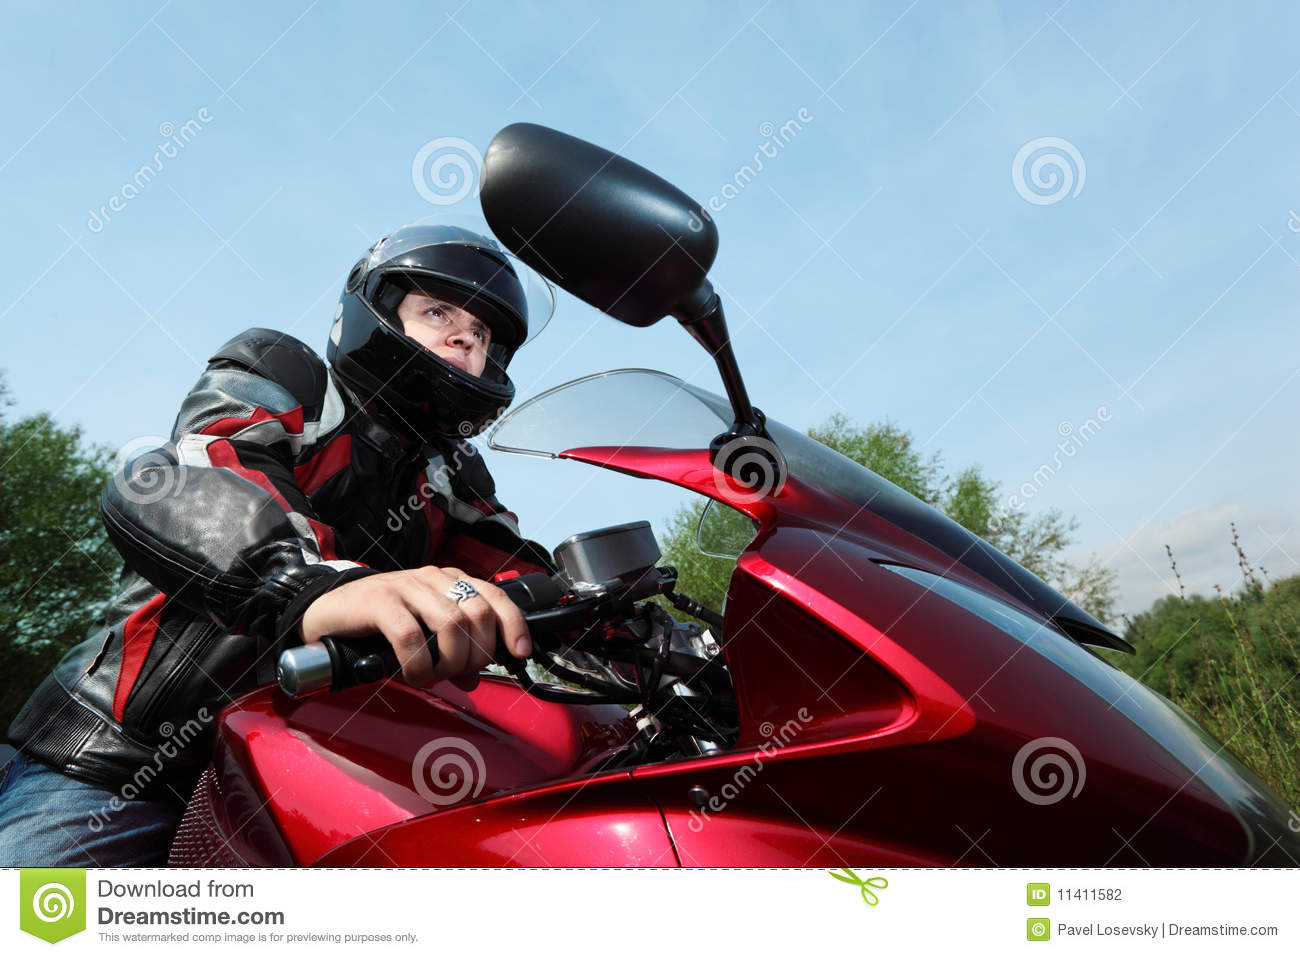helmet: (346, 216, 540, 429)
